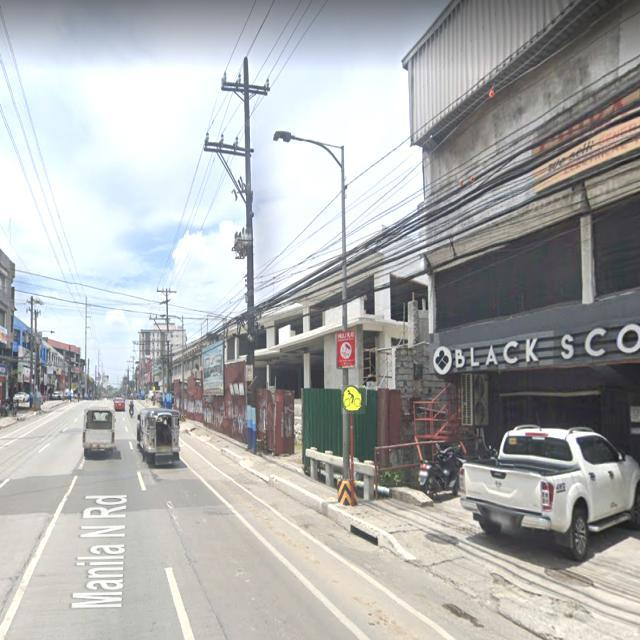bike lane: (341, 385, 365, 414)
